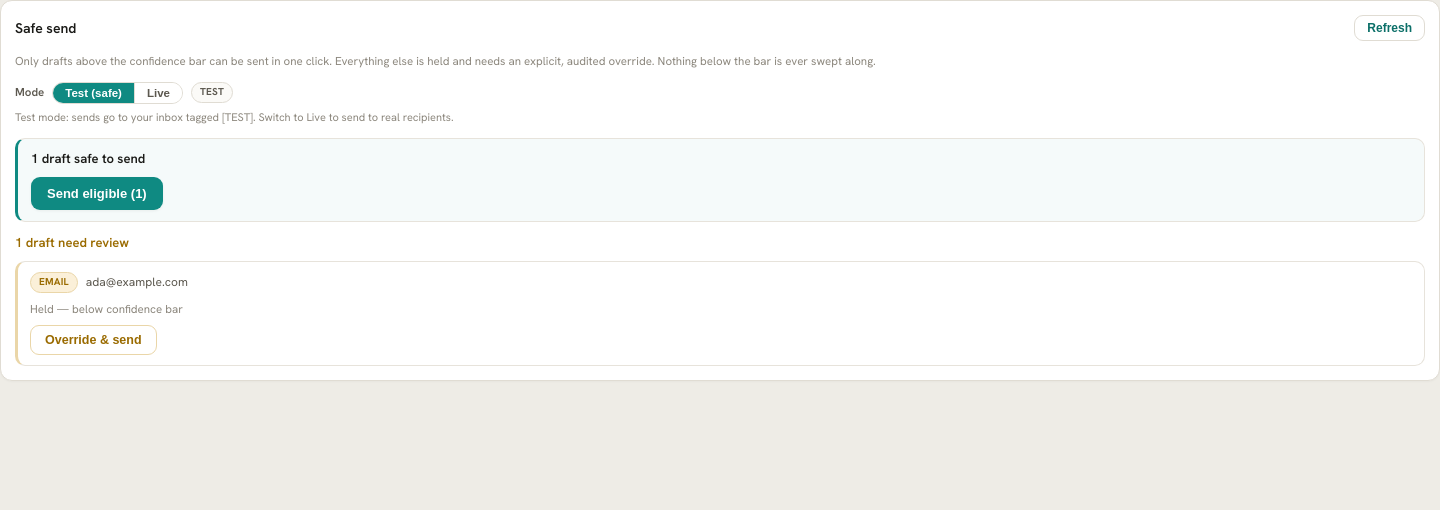
it: CampaignSendControls › the override form Send is disabled until a reason is typed
Click the button with aria-label "open override and send": (93, 340) 30,326 -> 157,356
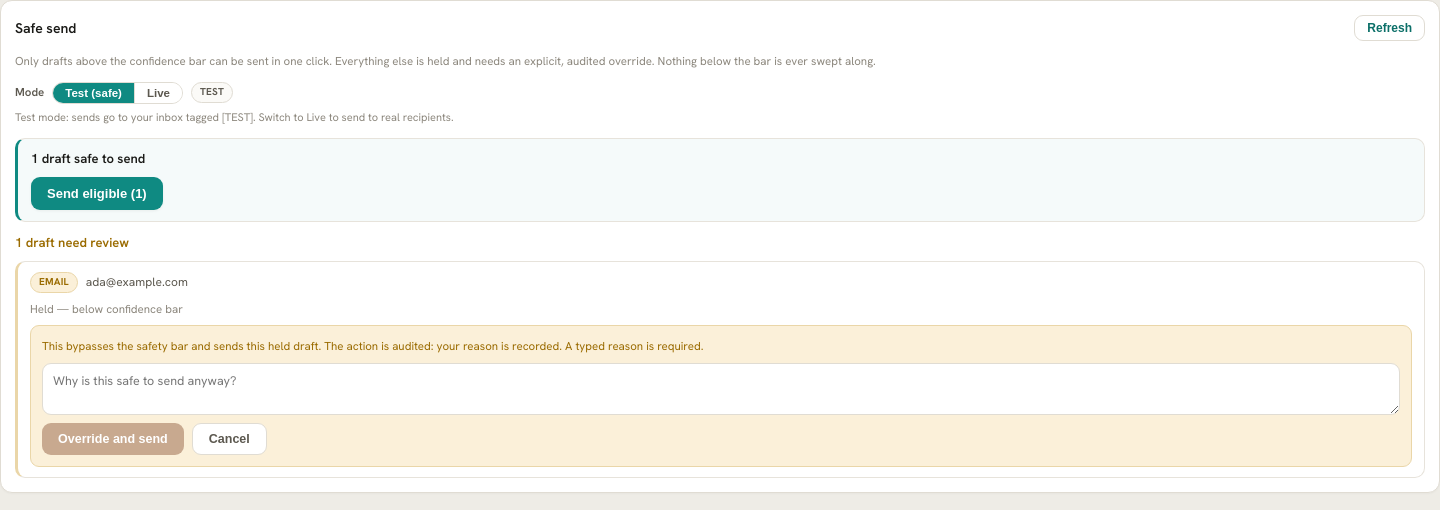
Expected: the button with aria-label "override and send draft" is disabled, 42,423 -> 184,455
In the text box named "override reason": (721, 389) 42,363 -> 1400,415, type "VIP client, identity manually verified"
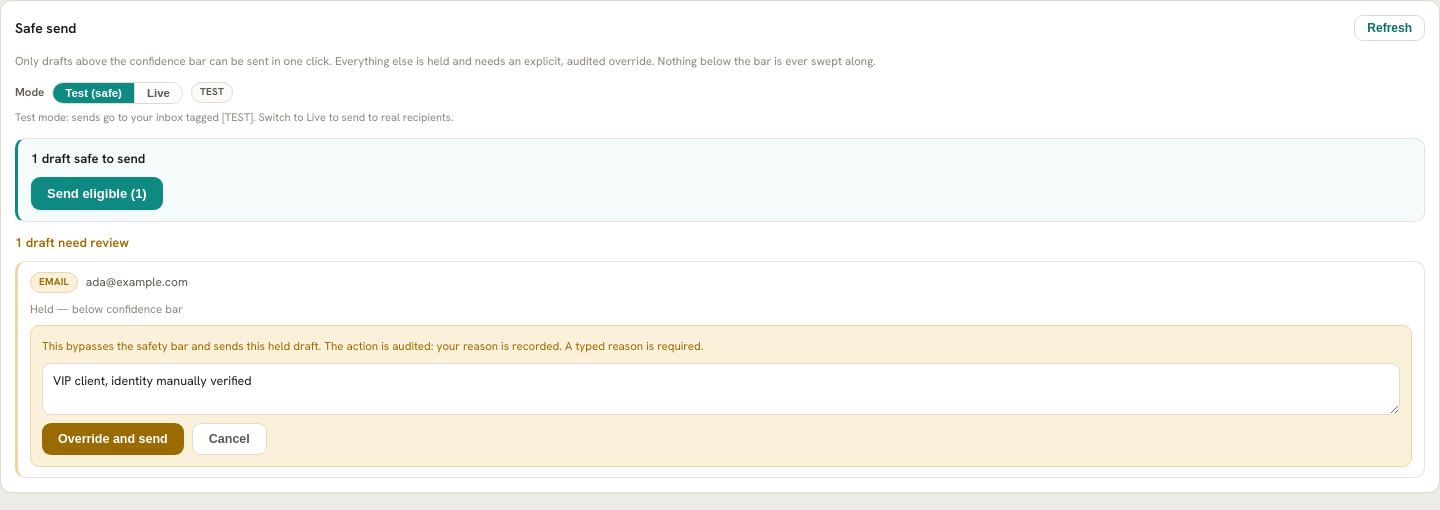
Expected: the button with aria-label "override and send draft" is enabled, 42,423 -> 184,455
